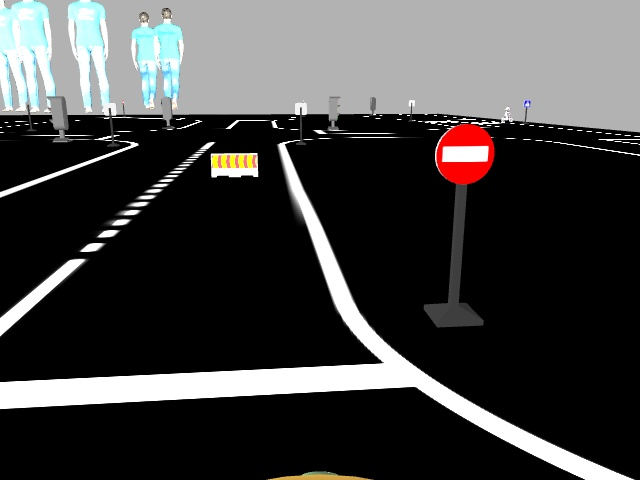ClosedRoadStand: (211, 153, 257, 176)
NoEntry: (436, 123, 493, 183)
